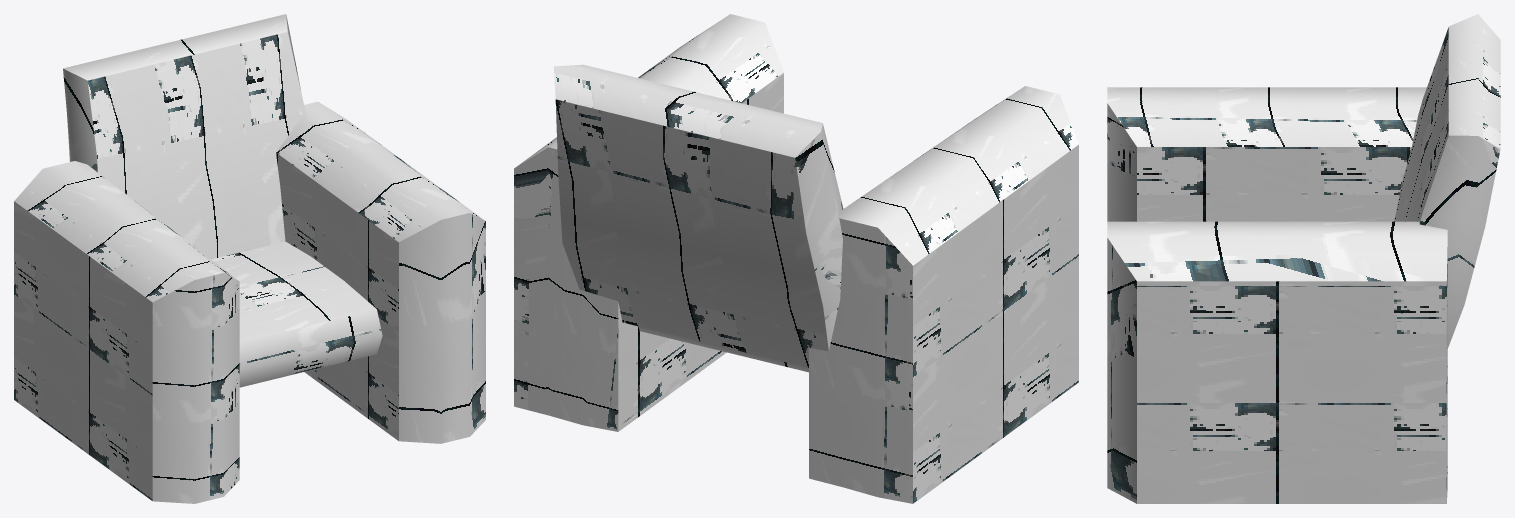
File: SmallSofa.FBX
3 views of the same model, side by side, from view 1: azimuth 30°, elevation 25°; view 2: azimuth 150°, elevation 25°; view 3: azimuth 270°, elevation 25° (orthographic). The views are drawn at different scales.
Visible parts, largest first — view 1: SmallSofa; view 2: SmallSofa; view 3: SmallSofa.
Part boxes in pixels (<box>): SmallSofa: <box>14,14,485,503</box>; SmallSofa: <box>514,14,1078,503</box>; SmallSofa: <box>1107,14,1500,503</box>.
Bounding box in the file's own units: 2.69 × 2.46 × 2.37.
Materials: 1 (1 with a texture image).
